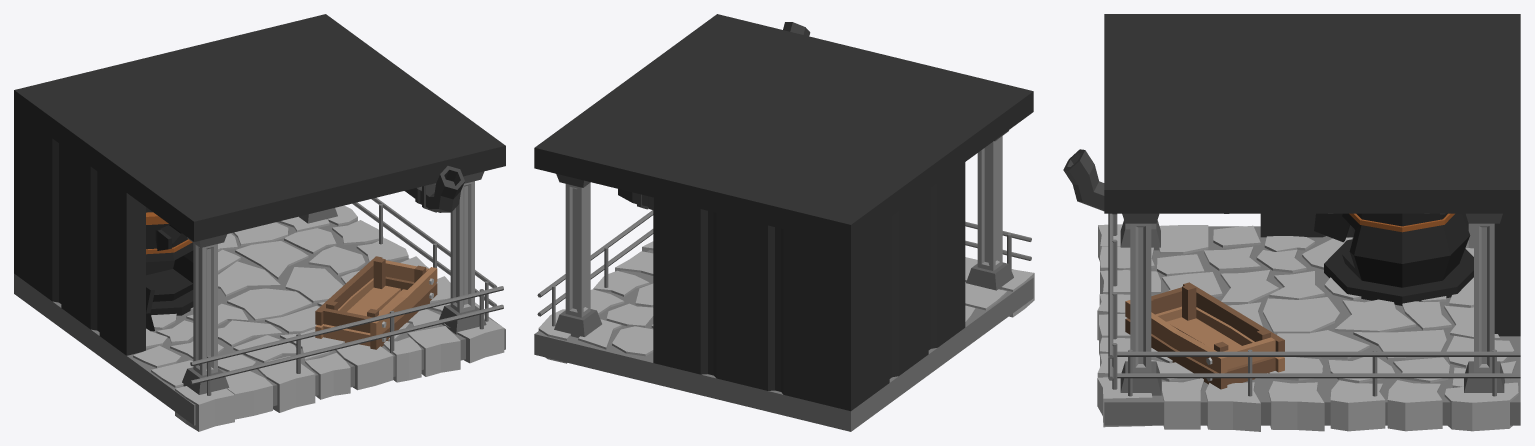
File: CoalGenerator_Level_01_Corner.fbx
The picture shows the model from 3 angles, left to right: view 1: azimuth 30°, elevation 25°; view 2: azimuth 150°, elevation 25°; view 3: azimuth 270°, elevation 25°; orthographic projection. The views are drawn at different scales.
Parts seen in each view (by area): view 1: CoalGenerator_Level_01_Corner; view 2: CoalGenerator_Level_01_Corner; view 3: CoalGenerator_Level_01_Corner.
Part boxes in pixels (left/top/right/bottom): CoalGenerator_Level_01_Corner: left=14, top=14, right=505, bottom=431; CoalGenerator_Level_01_Corner: left=534, top=14, right=1034, bottom=431; CoalGenerator_Level_01_Corner: left=1063, top=14, right=1520, bottom=431.
Size of the model in its own units: 8.17 by 5.21 by 8.79.
